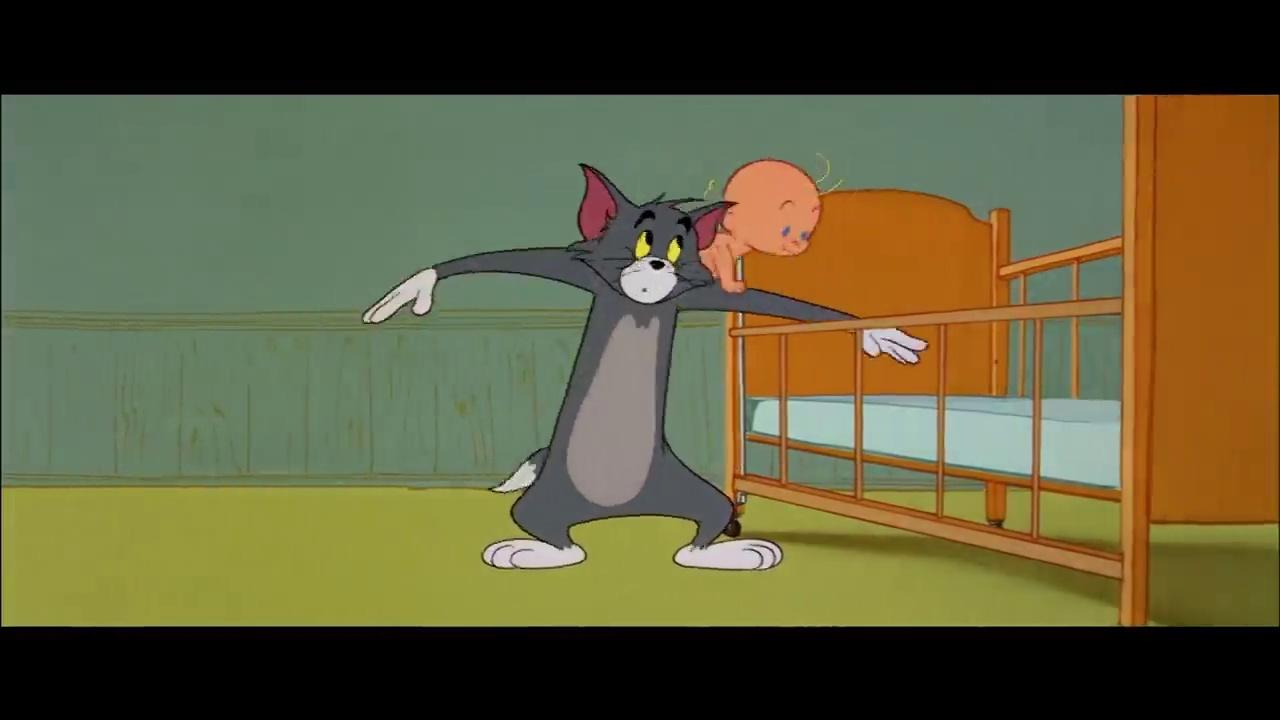Tom: (359, 159, 930, 573)
